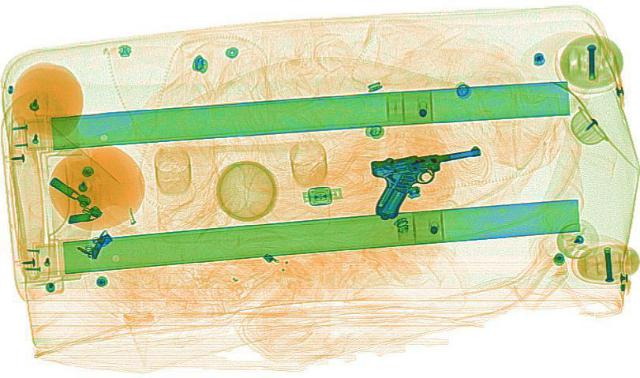Gun: (343, 138, 511, 218)
